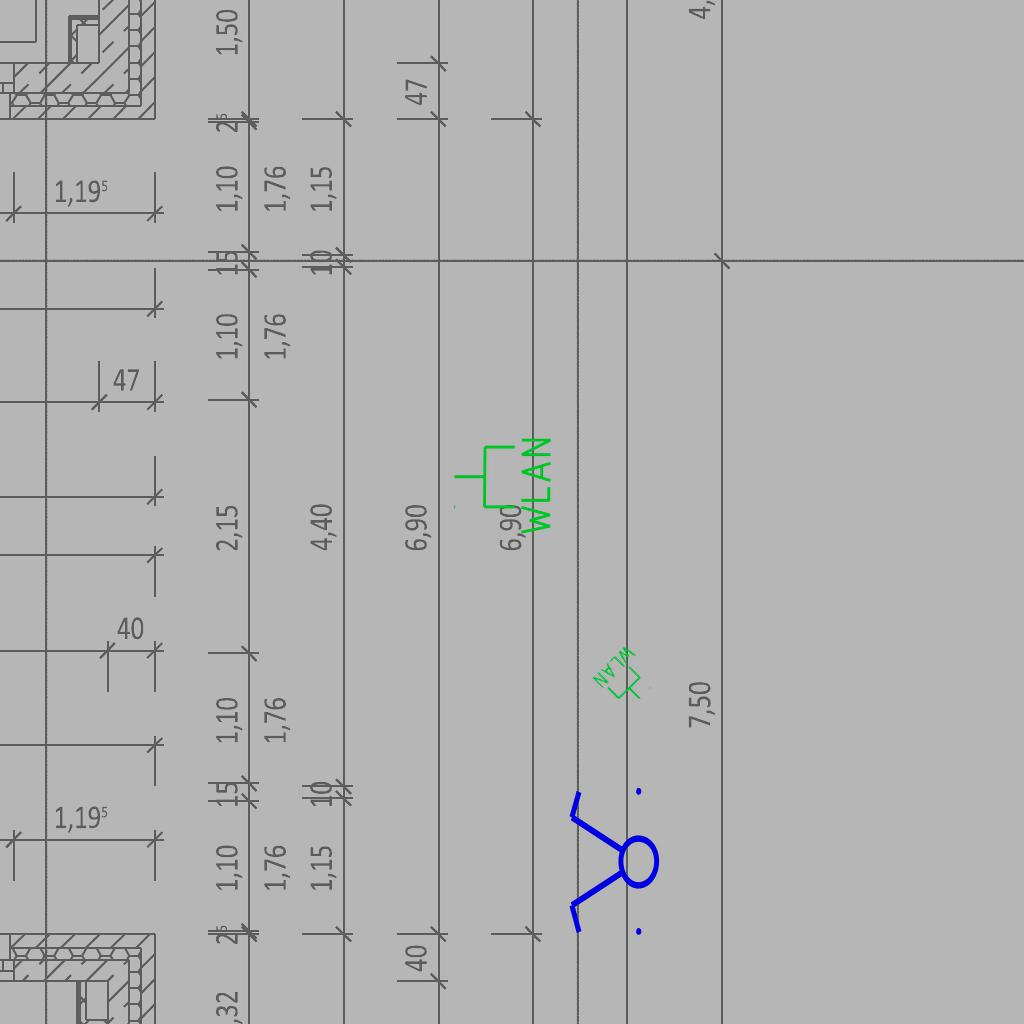Serienschalter: (565, 779, 661, 947)
WLAN: (451, 434, 555, 539), (589, 641, 663, 715)
